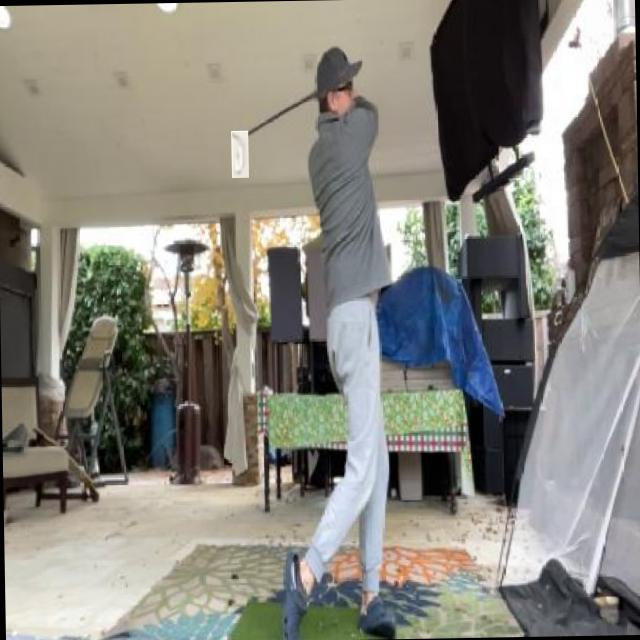club head: (230, 130, 248, 178)
